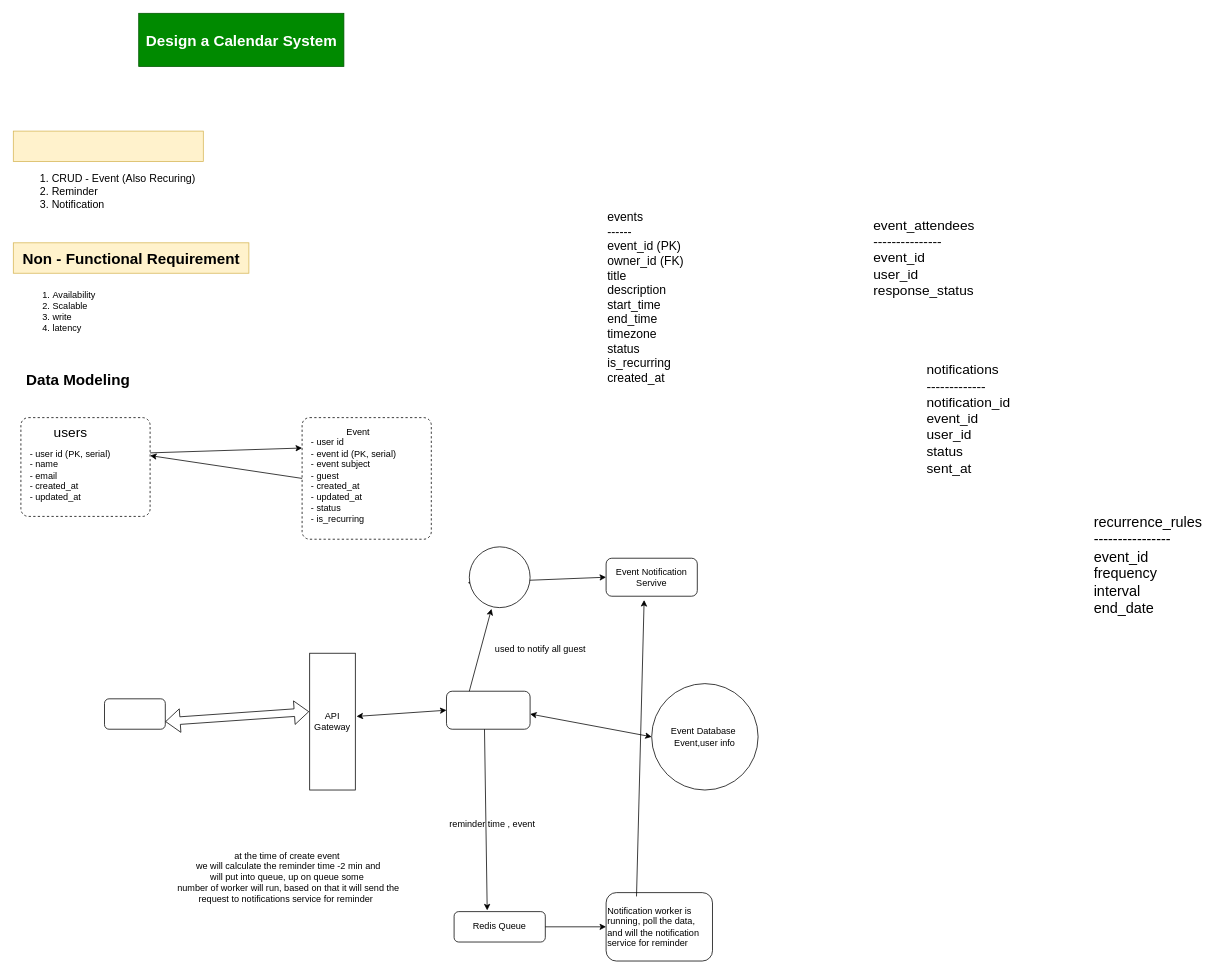
This 1216x974 diagram has some shape labels left out. The shapes that lost their labels are listed below. From the top down, each one's centre as x and y in pixels, then its label:
At point (108, 146): "Functional Requirement".
At point (499, 577): "Kafka".
At point (134, 713): "Cleint".
At point (488, 709): "Event Servive".
